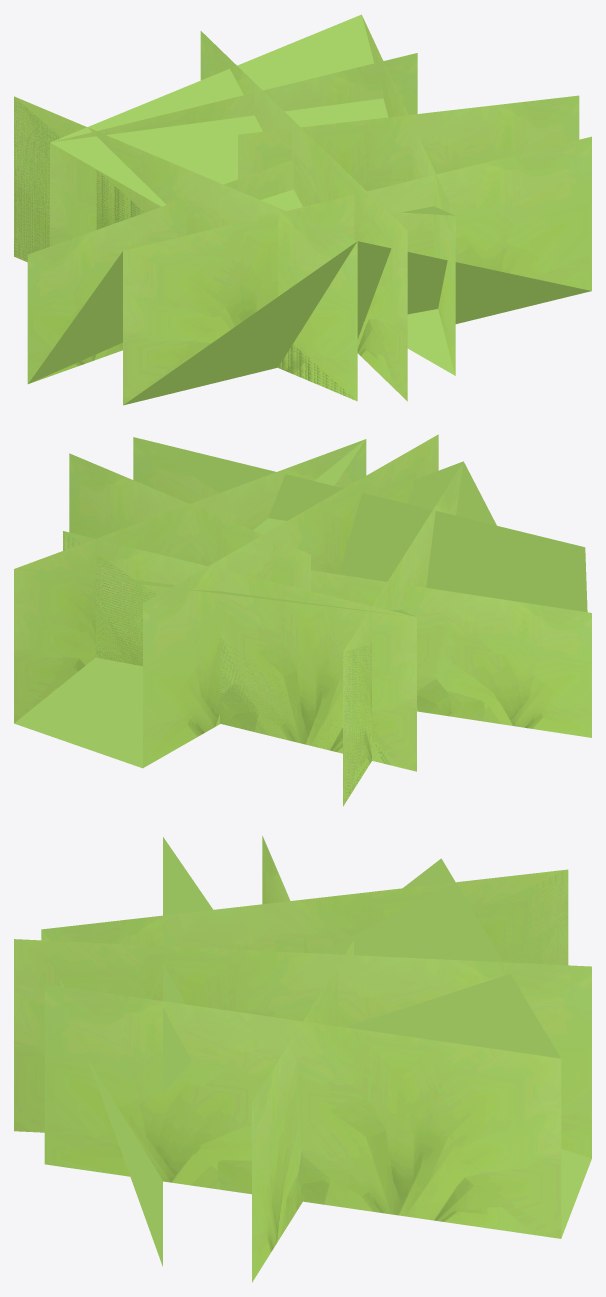
The model's file is SM_Env_Grass_Med_Clump_02.glb.
3 views of the same model, one above another, from view 1: azimuth 30°, elevation 25°; view 2: azimuth 150°, elevation 25°; view 3: azimuth 270°, elevation 25° (orthographic). The views are drawn at different scales.
Parts seen in each view (by area): view 1: SM_Env_Grass_Med_Clump_02; view 2: SM_Env_Grass_Med_Clump_02; view 3: SM_Env_Grass_Med_Clump_02.
Boxes of the visible parts, x1,y1,x2,y2 form: SM_Env_Grass_Med_Clump_02: [14, 14, 591, 405]; SM_Env_Grass_Med_Clump_02: [14, 434, 591, 806]; SM_Env_Grass_Med_Clump_02: [14, 835, 591, 1282].
Size of the model in its own units: 1.79 by 0.5329 by 1.45.
1 material, 1 textured.
